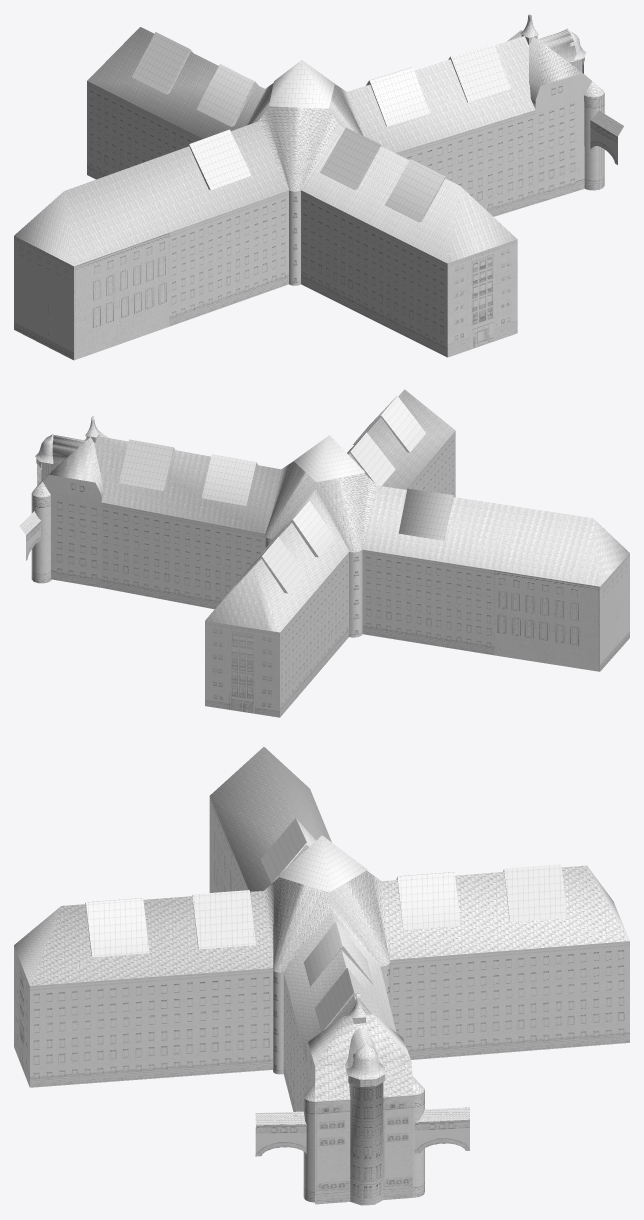
Rendered from 1Huelsse-Bau.gltf.
3 views of the same model, one above another, from view 1: azimuth 30°, elevation 25°; view 2: azimuth 150°, elevation 25°; view 3: azimuth 270°, elevation 25° (orthographic). The views are drawn at different scales.
Visible parts, largest first — view 1: Dach.1; view 2: Dach.1; view 3: Dach.1.
Boxes of the visible parts, box(x1,y1,x2,y2) form: Dach.1: box(14, 14, 623, 360); Dach.1: box(19, 389, 629, 717); Dach.1: box(14, 747, 629, 1205).
Size of the model in its own units: 113 by 35.39 by 93.27.
15 materials, 15 textured.
